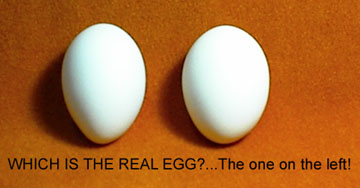Egg: (175, 16, 276, 151)
